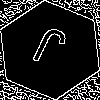J: (25, 25, 70, 77)
